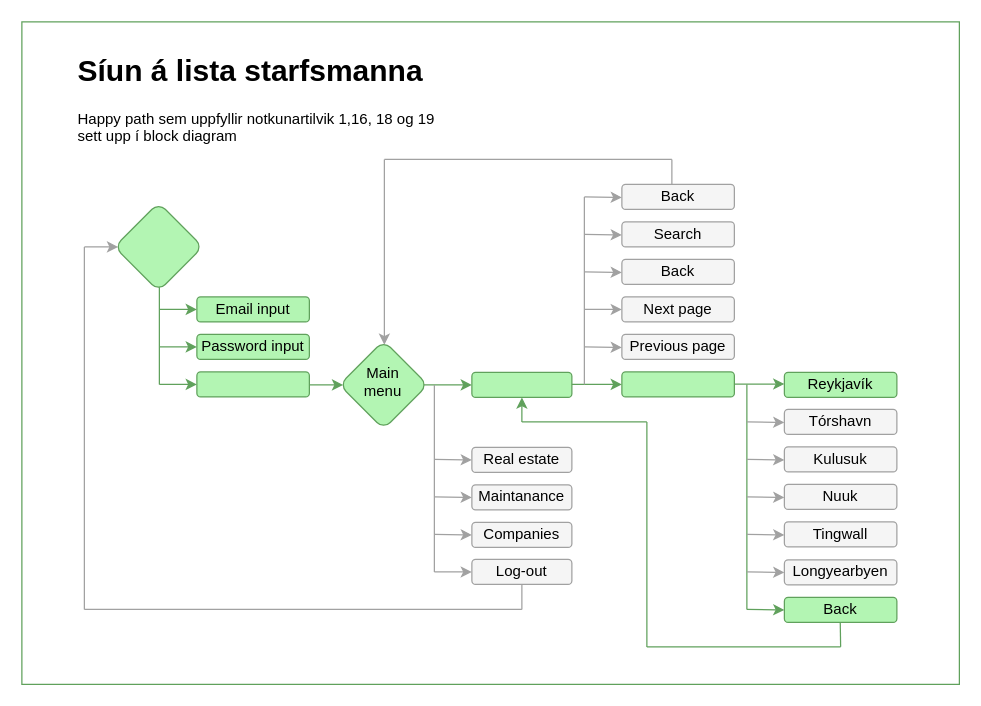
This 981x706 diagram has some shape labels left out. Each missing label, with the box of its shape:
Employees: (471, 371, 572, 397)
Filter: (621, 371, 734, 397)
Log-in option: (196, 371, 309, 397)
Login Screen: (113, 201, 203, 291)
